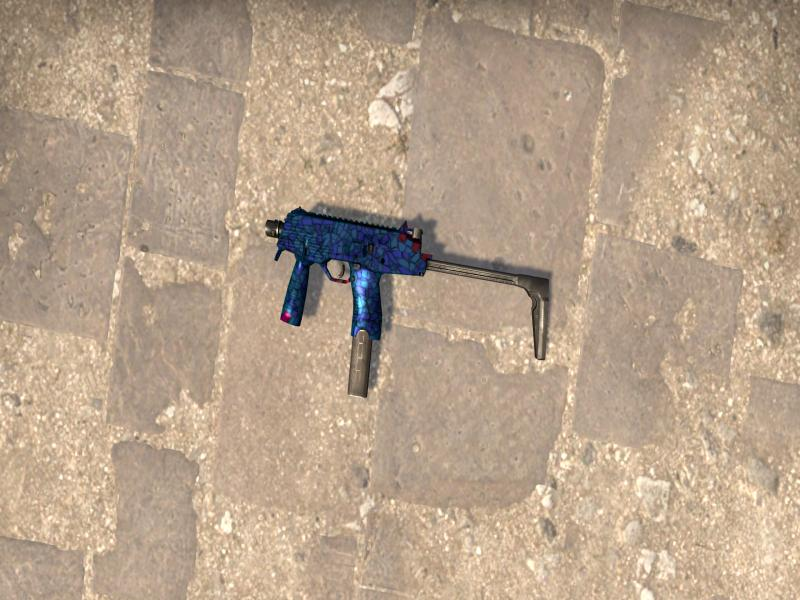MP9: (265, 207, 550, 396)
